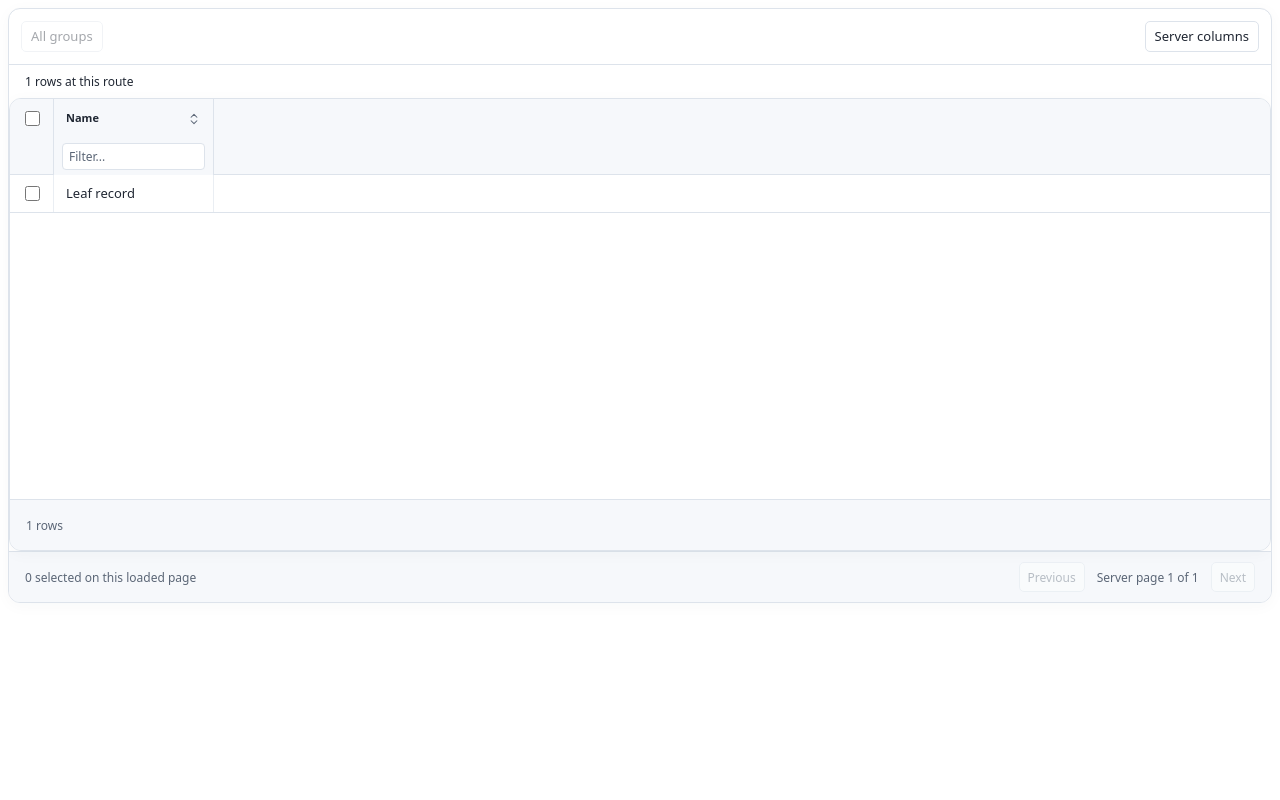
Test: server note ownership › isolates query namespaces and restores a previous query
Press n in the cell "Leaf record", box [54,175,214,212]
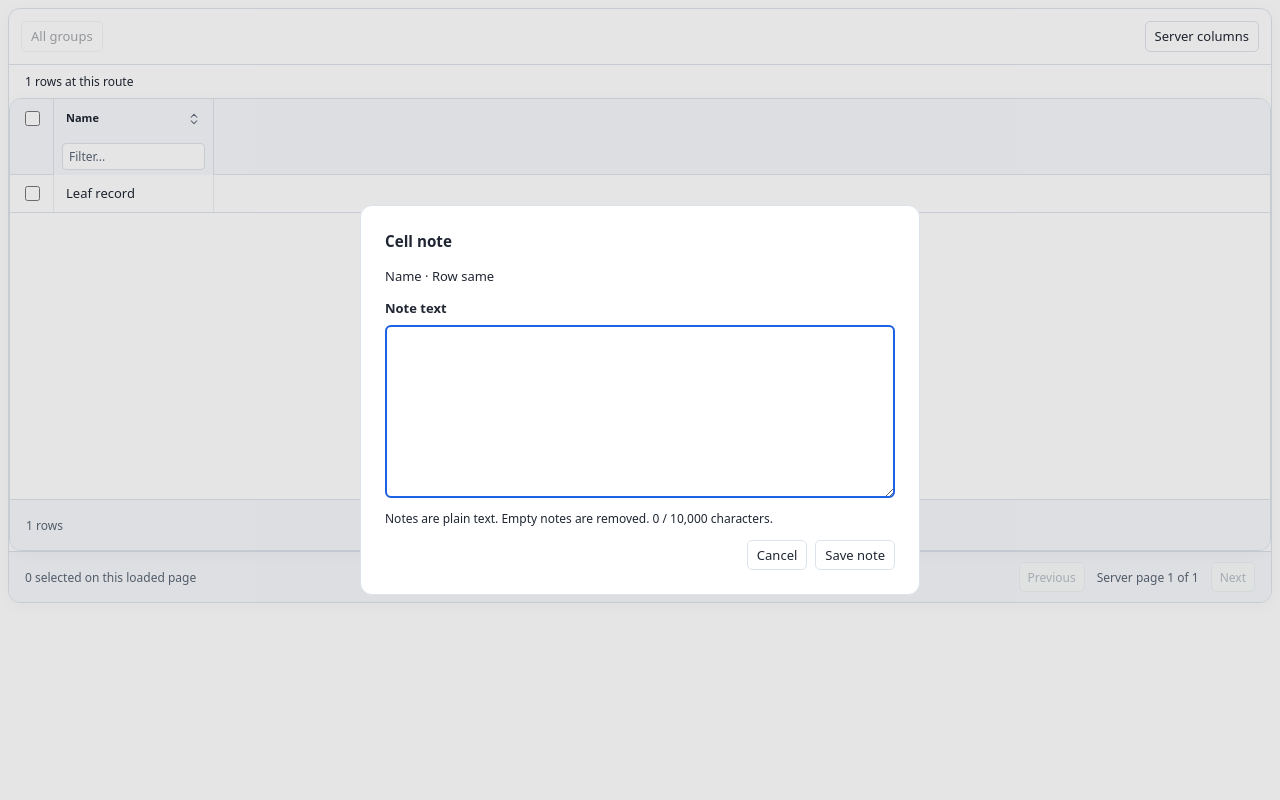
In the text box labelled "Note text": (640, 412) [385,326,895,498], type "Original query"
Click the button "Save note": (855, 555) [815,540,895,570]
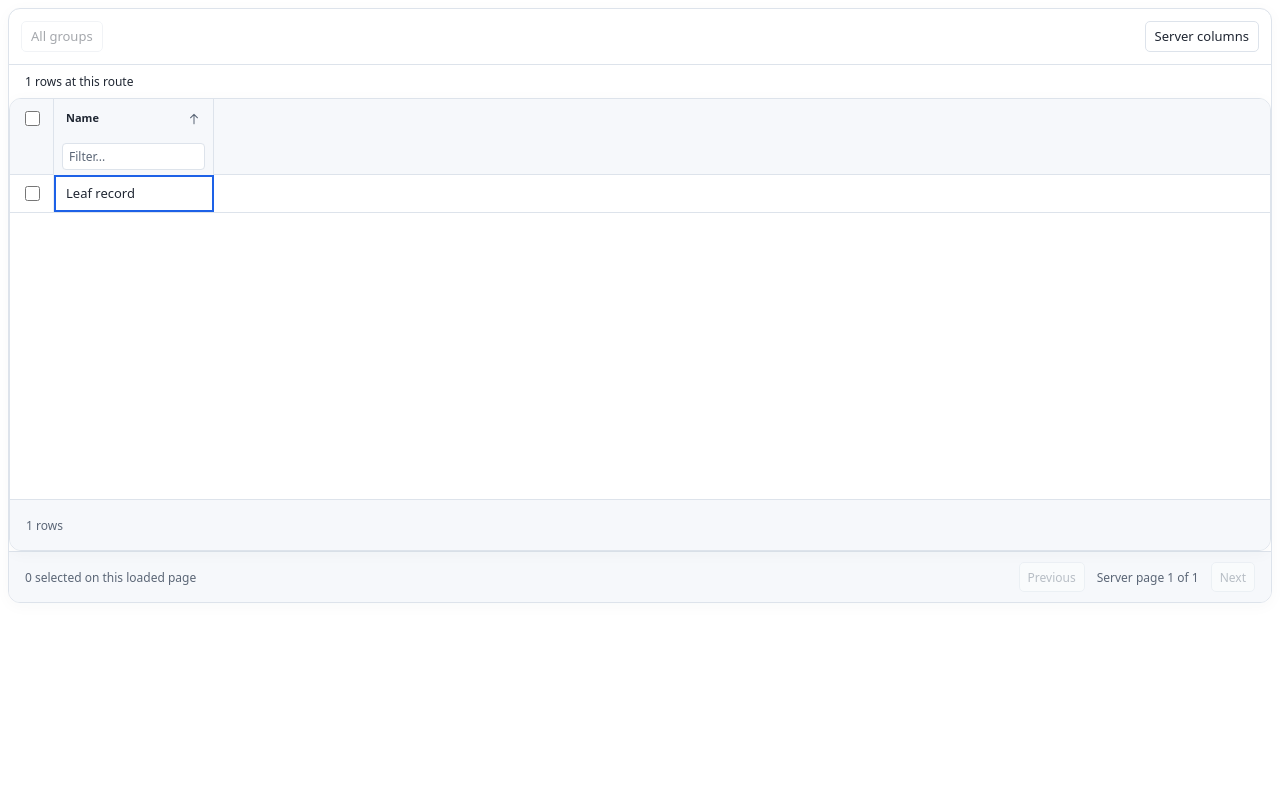
Press n in the cell "Leaf record", box [54,175,214,212]
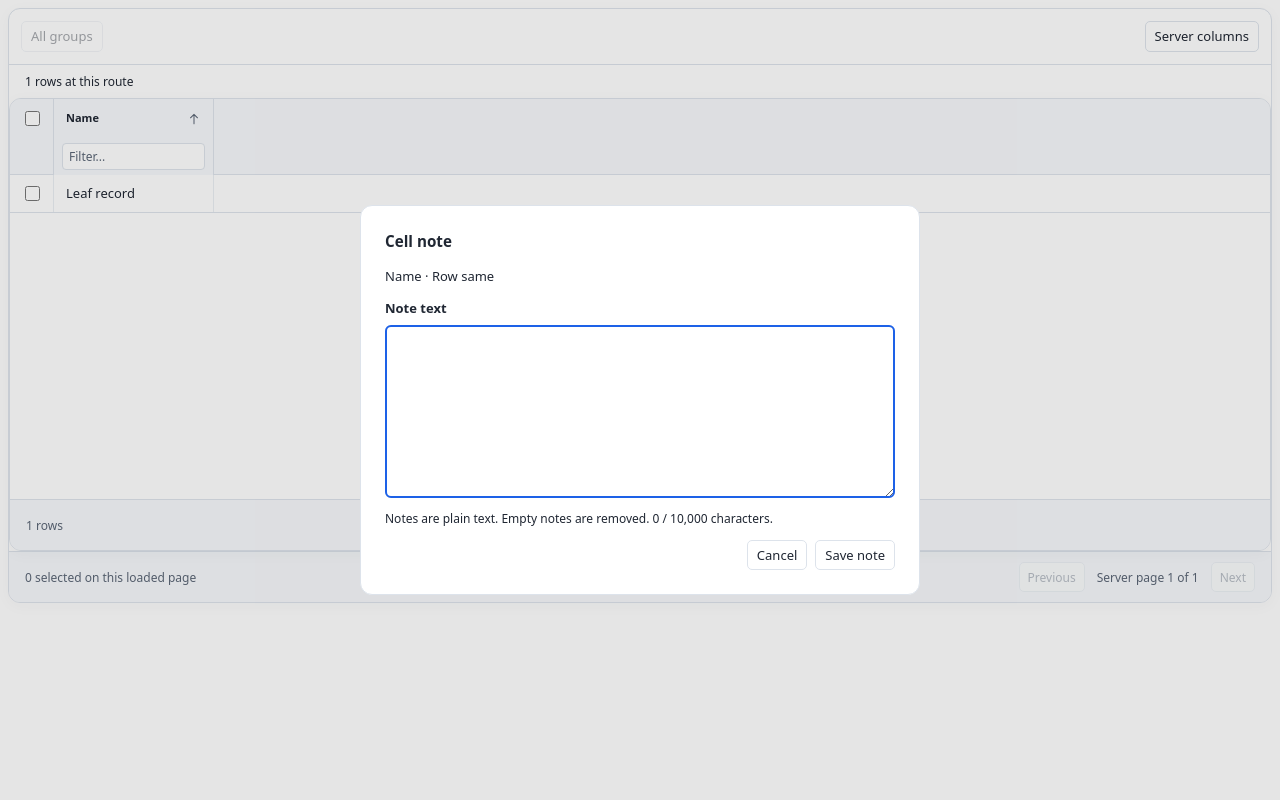
In the text box labelled "Note text": (640, 412) [385,326,895,498], type "Sorted query"
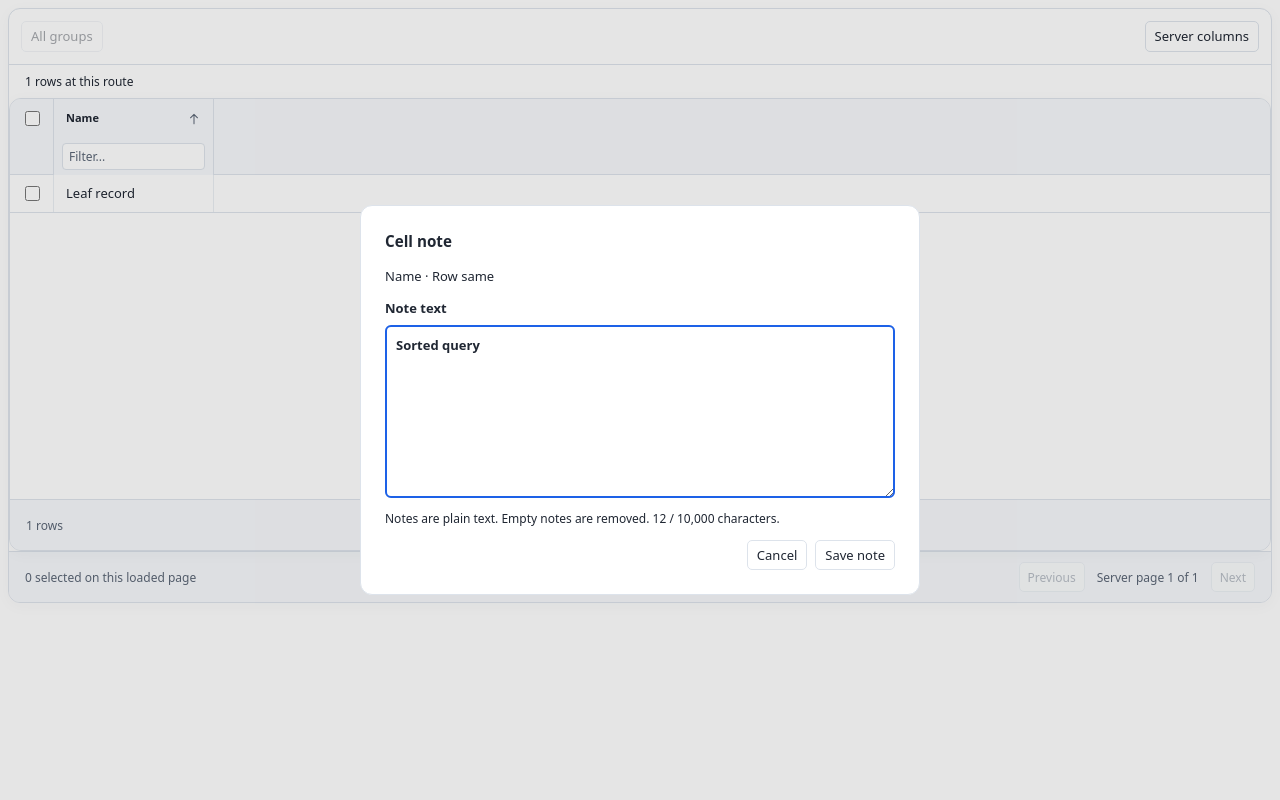
Click the button "Save note": (855, 555) [815,540,895,570]
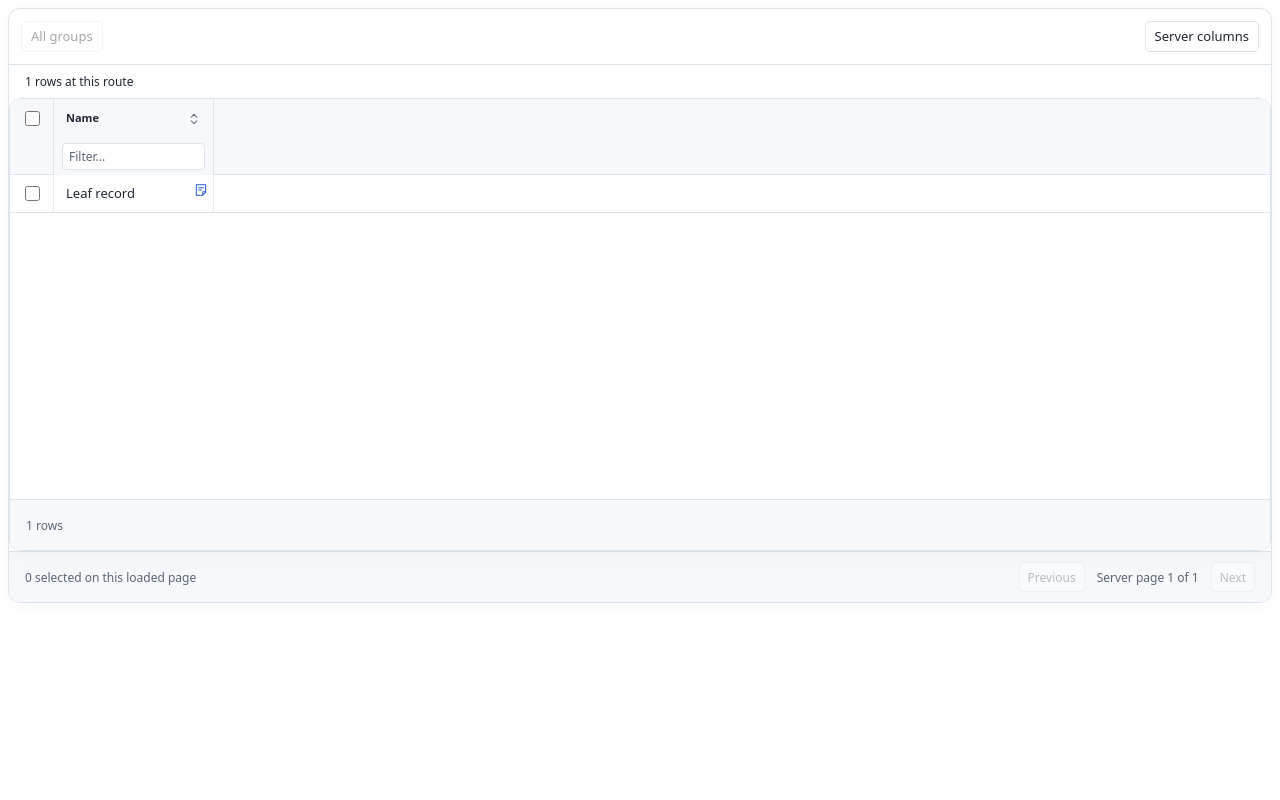
Press n in the cell "Leaf record", box [54,175,214,212]
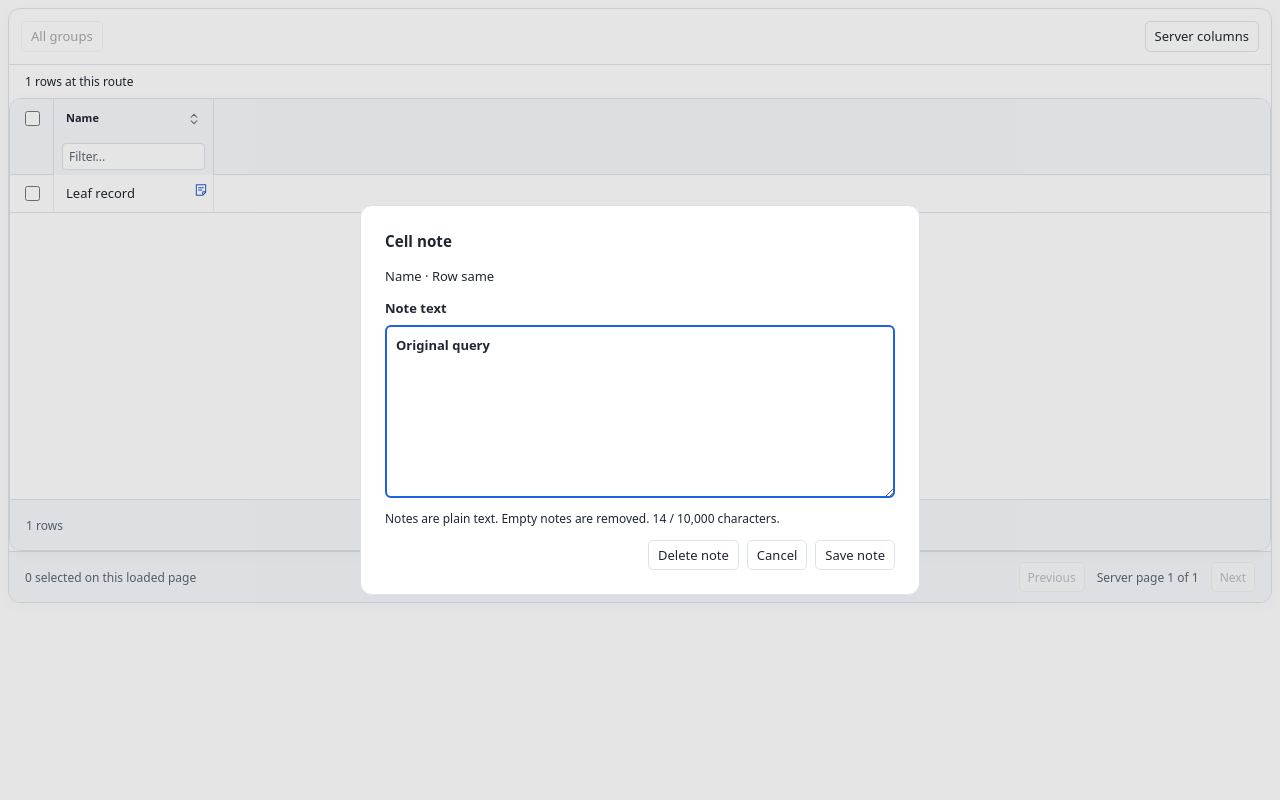
Expected: the text box labelled "Note text" holds "Original query", [385,326,895,498]
